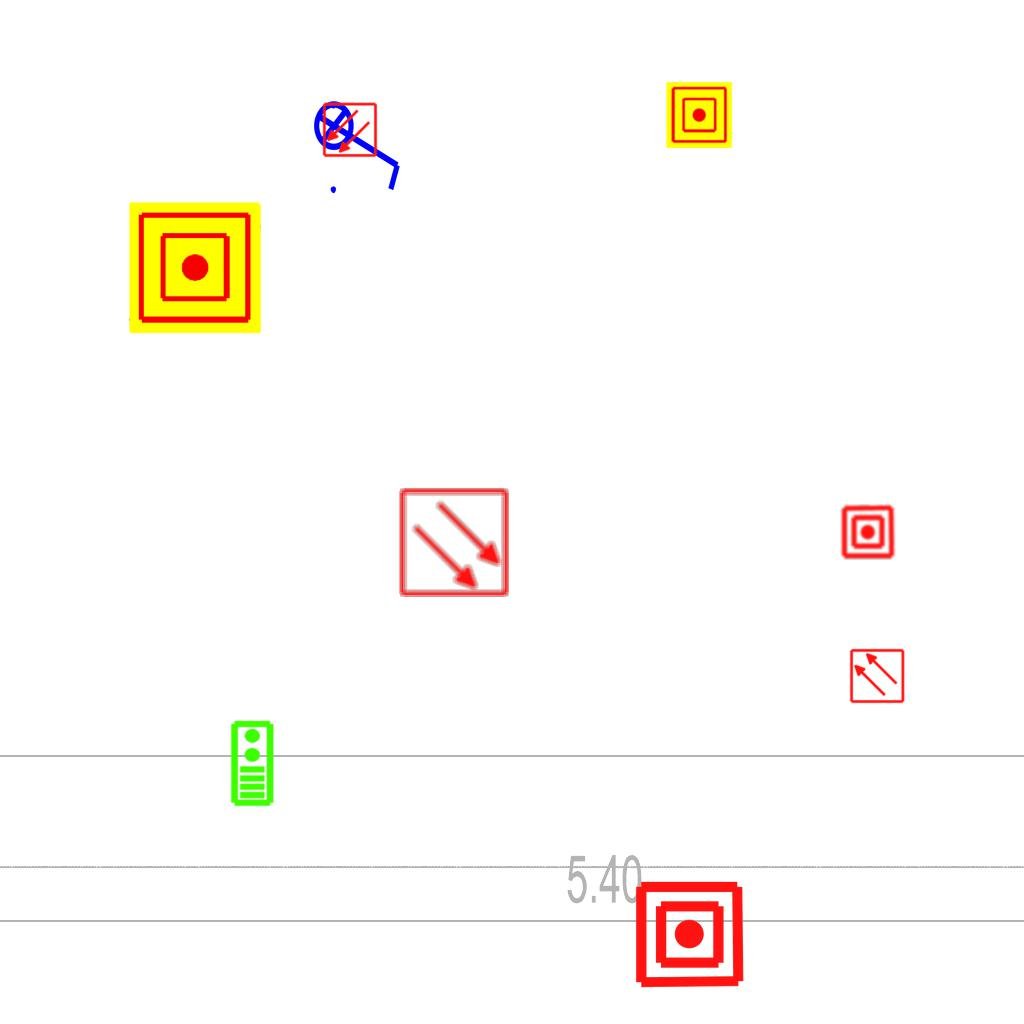Ausschalter_beleuchtet: (312, 87, 408, 199)
Gegensprechanlage_mit_Video: (228, 719, 275, 807)
NAM-Nichtautomatischer_Melder: (129, 202, 261, 334), (633, 878, 746, 991), (666, 82, 732, 148), (840, 504, 896, 560)
RMO_Rauchmelder_optischer: (398, 486, 511, 599), (849, 648, 905, 704), (322, 102, 378, 158)
